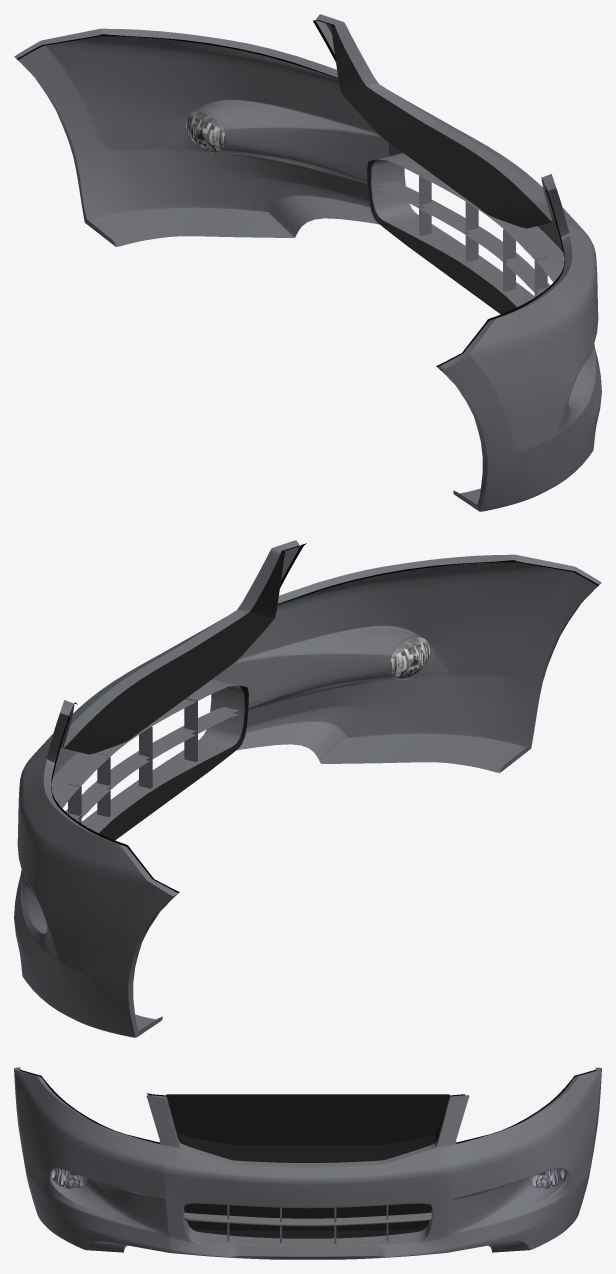
3 views of the same model, one above another, from view 1: azimuth 30°, elevation 25°; view 2: azimuth 150°, elevation 25°; view 3: azimuth 270°, elevation 25° (orthographic). The views are drawn at different scales.
Parts seen in each view (by area): view 1: H141_021G_C_H141_021G_C_3_DaS, H141_021G_C_H141_021G_C_3_DaS_E, H141_021G_C_H141_021G_C_4_D, H141_021G_C_6_D_H141_021G_C, H141_021G_C_H141_021G_C_1_N; view 2: H141_021G_C_H141_021G_C_3_DaS, H141_021G_C_H141_021G_C_3_DaS_E, H141_021G_C_H141_021G_C_4_D, H141_021G_C_6_D_H141_021G_C, H141_021G_C_H141_021G_C_2_N; view 3: H141_021G_C_H141_021G_C_3_DaS, H141_021G_C_H141_021G_C_4_D, H141_021G_C_H141_021G_C_3_DaS_E, H141_021G_C_6_D_H141_021G_C, H141_021G_C_H141_021G_C_5_DTaSI, H141_021G_C_H141_021G_C_6_DTaSI, H141_021G_C_H141_021G_C_1_N, H141_021G_C_H141_021G_C_2_N.
Boxes of the visible parts, x1,y1,x2,y2 form: H141_021G_C_H141_021G_C_3_DaS: (18, 23, 601, 511); H141_021G_C_H141_021G_C_3_DaS_E: (14, 14, 572, 511); H141_021G_C_H141_021G_C_4_D: (331, 25, 552, 314); H141_021G_C_6_D_H141_021G_C: (17, 20, 564, 367); H141_021G_C_H141_021G_C_1_N: (186, 111, 225, 152); H141_021G_C_H141_021G_C_3_DaS: (14, 549, 597, 1037); H141_021G_C_H141_021G_C_3_DaS_E: (43, 540, 601, 1037); H141_021G_C_H141_021G_C_4_D: (63, 551, 284, 840); H141_021G_C_6_D_H141_021G_C: (51, 543, 598, 893); H141_021G_C_H141_021G_C_2_N: (390, 637, 429, 678); H141_021G_C_H141_021G_C_3_DaS: (14, 1070, 601, 1259); H141_021G_C_H141_021G_C_4_D: (166, 1094, 449, 1238); H141_021G_C_H141_021G_C_3_DaS_E: (14, 1067, 601, 1245); H141_021G_C_6_D_H141_021G_C: (20, 1068, 595, 1143); H141_021G_C_H141_021G_C_5_DTaSI: (528, 1168, 564, 1189); H141_021G_C_H141_021G_C_6_DTaSI: (51, 1168, 87, 1189); H141_021G_C_H141_021G_C_1_N: (529, 1168, 564, 1188); H141_021G_C_H141_021G_C_2_N: (51, 1168, 86, 1188).
Size of the model in its own units: 79.97 by 61.25 by 204.
